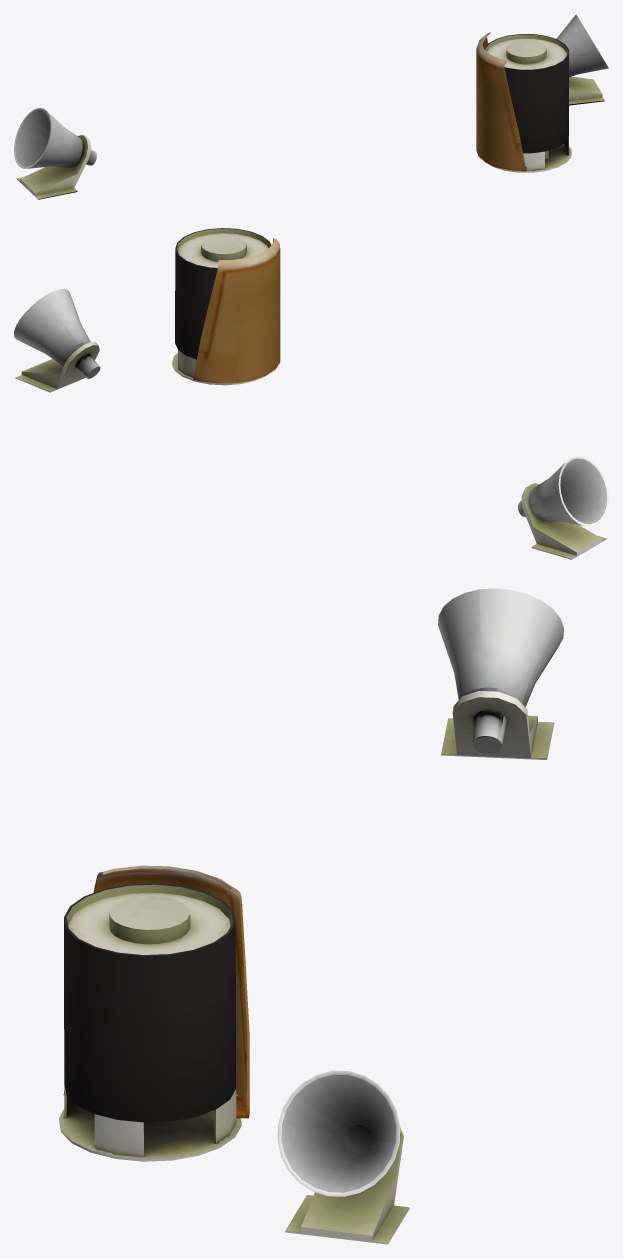
File: insight-antenna.glb
3 views of the same model, one above another, from view 1: azimuth 30°, elevation 25°; view 2: azimuth 150°, elevation 25°; view 3: azimuth 270°, elevation 25° (orthographic). The views are drawn at different scales.
Visible parts, largest first — view 1: UHF_antenna, RISE_HORN_SURFACE_0_0, RISE_HORN_SURFACE_1_0; view 2: UHF_antenna, RISE_HORN_SURFACE_0_0, RISE_HORN_SURFACE_1_0; view 3: UHF_antenna, RISE_HORN_SURFACE_1_0, RISE_HORN_SURFACE_0_0.
Part boxes in pixels (box(x1,y1,x2,y2)): UHF_antenna: box(476, 32, 571, 172); RISE_HORN_SURFACE_0_0: box(14, 108, 96, 199); RISE_HORN_SURFACE_1_0: box(556, 14, 608, 105); UHF_antenna: box(172, 228, 280, 385); RISE_HORN_SURFACE_0_0: box(518, 456, 608, 559); RISE_HORN_SURFACE_1_0: box(14, 289, 100, 392); UHF_antenna: box(59, 865, 249, 1161); RISE_HORN_SURFACE_1_0: box(277, 1070, 409, 1244); RISE_HORN_SURFACE_0_0: box(438, 588, 563, 759).
Bounding box in the file's own units: 1.53 × 0.2944 × 0.6116.
4 materials, 4 textured.
